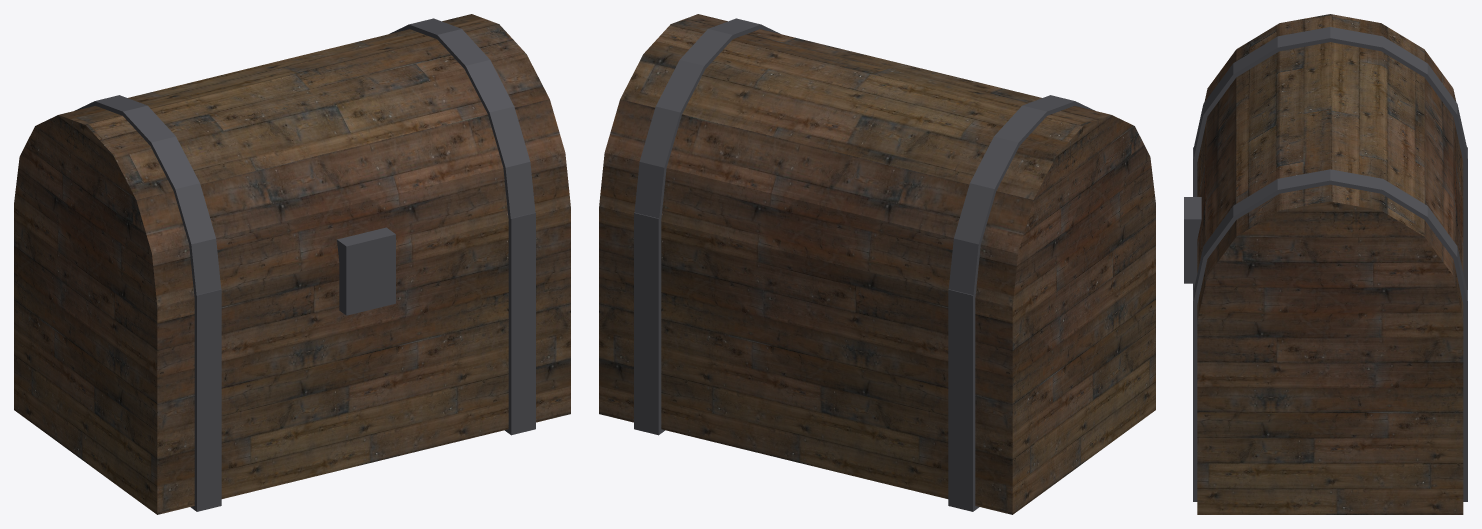
File: stash_chest.glb
3 views of the same model, side by side, from view 1: azimuth 30°, elevation 25°; view 2: azimuth 150°, elevation 25°; view 3: azimuth 270°, elevation 25° (orthographic). The views are drawn at different scales.
Visible parts, largest first — view 1: stash_chest; view 2: stash_chest; view 3: stash_chest.
Part boxes in pixels (box(x1,y1,x2,y2)): stash_chest: box(14, 14, 570, 514); stash_chest: box(599, 14, 1155, 514); stash_chest: box(1184, 14, 1467, 514).
Size of the model in its own units: 1 by 0.8 by 0.64.
Materials: 2 (1 with a texture image).
